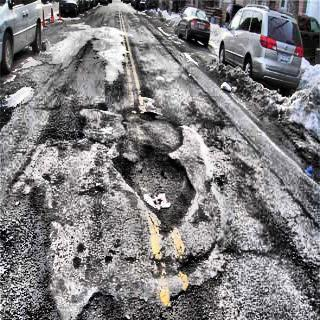pothole: (116, 104, 203, 230), (80, 289, 124, 320)
